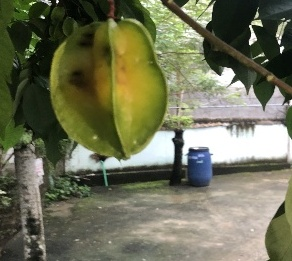Khe: (48, 18, 173, 162)
